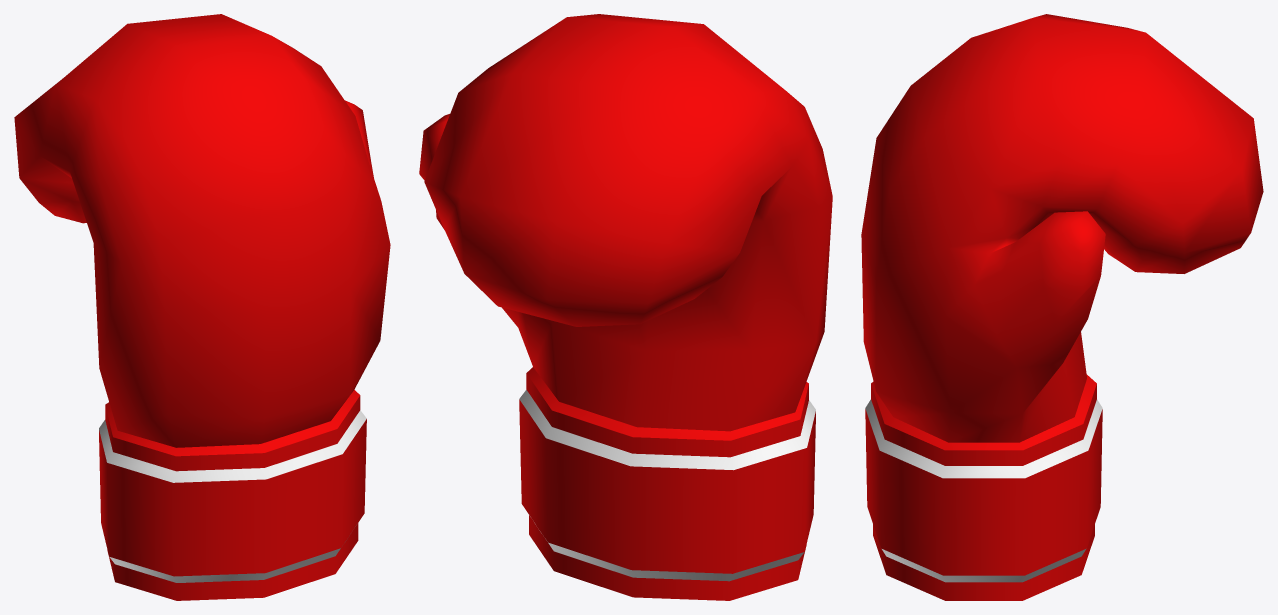
File: BoxingGlove.fbx
The picture shows the model from 3 angles, left to right: view 1: azimuth 30°, elevation 25°; view 2: azimuth 150°, elevation 25°; view 3: azimuth 270°, elevation 25°; orthographic projection. The views are drawn at different scales.
Visible parts, largest first — view 1: BoxingGlove; view 2: BoxingGlove; view 3: BoxingGlove.
Part boxes in pixels (bbox=[...]): BoxingGlove: bbox=[14, 14, 390, 600]; BoxingGlove: bbox=[419, 14, 832, 600]; BoxingGlove: bbox=[861, 14, 1263, 600].
Size of the model in its own units: 1.14 by 1.7 by 1.2.
